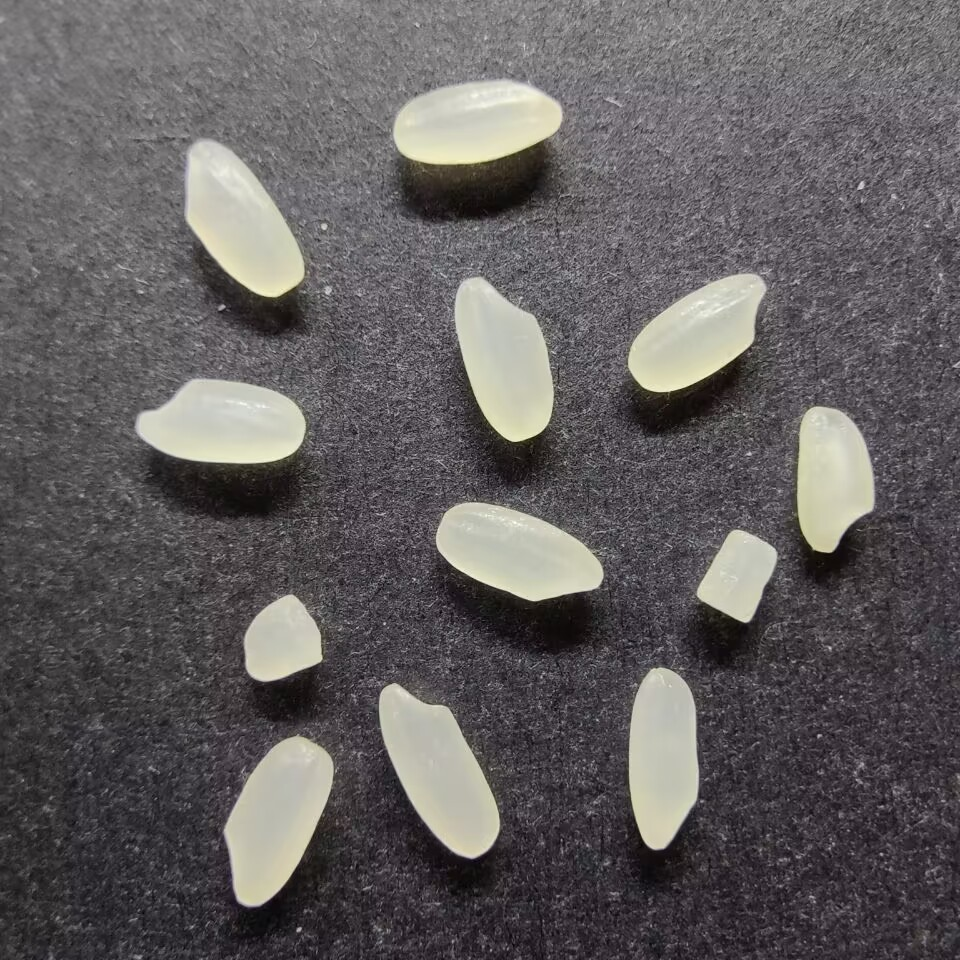broken: (695, 528, 777, 624), (240, 592, 323, 683)
rice: (376, 681, 502, 861), (219, 734, 335, 908), (182, 136, 306, 297), (433, 500, 605, 604), (625, 270, 768, 394), (451, 275, 555, 442), (390, 78, 563, 167), (133, 376, 306, 465), (625, 665, 701, 850), (794, 405, 876, 553)
